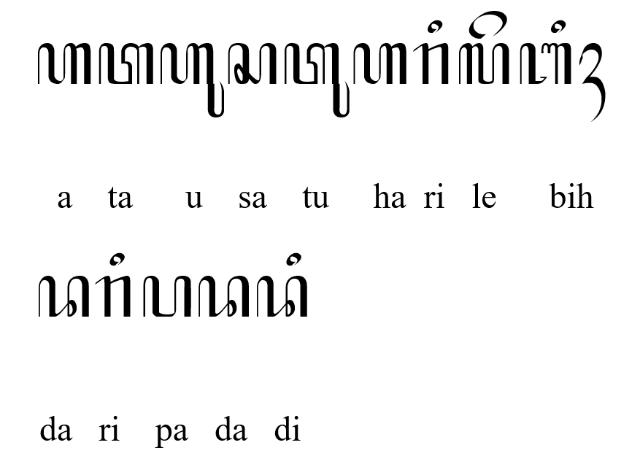_h1: (578, 42, 606, 122)
b: (520, 43, 574, 85)
d: (256, 274, 308, 319), (197, 275, 249, 318), (38, 276, 90, 318)
e: (468, 10, 508, 40)
h: (36, 42, 92, 86), (352, 42, 408, 86)
hu: (160, 43, 224, 118)
i: (550, 19, 566, 35), (286, 252, 302, 266), (109, 253, 125, 266), (427, 20, 443, 32)
l: (458, 42, 510, 86)
p: (142, 275, 192, 318)
r: (412, 41, 450, 86), (95, 275, 132, 318)
s: (228, 42, 276, 84)
t: (99, 42, 155, 86)
tu: (284, 43, 350, 118)
